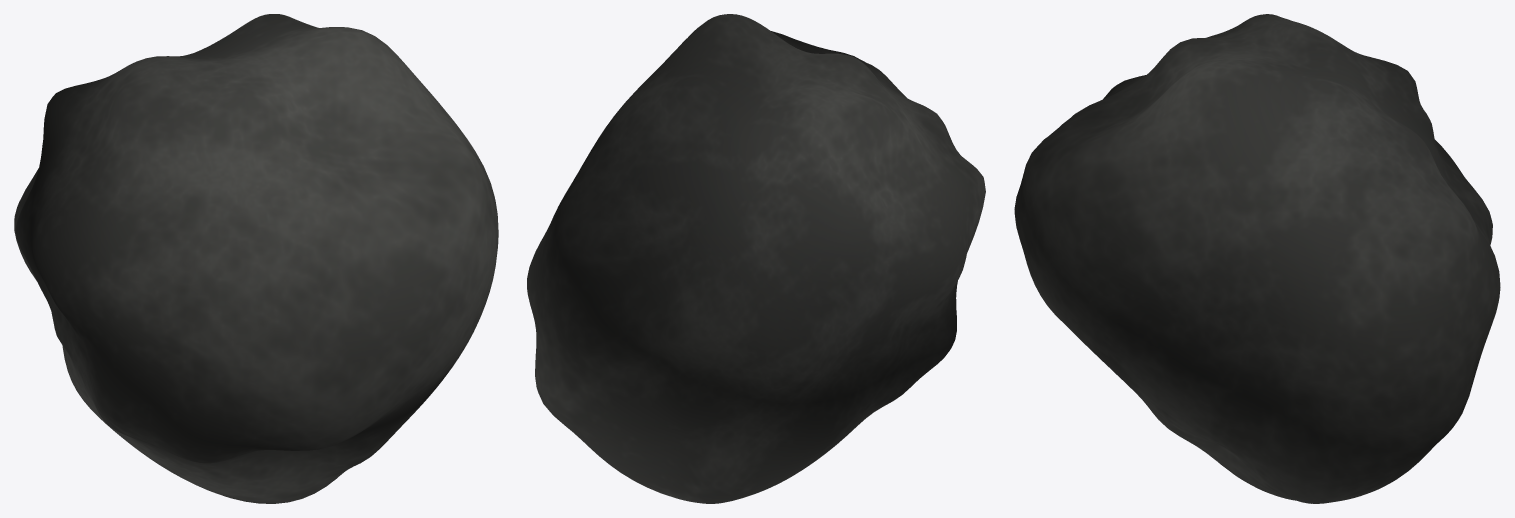
Rendered from asteroid-flint.glb.
The picture shows the model from 3 angles, left to right: view 1: azimuth 30°, elevation 25°; view 2: azimuth 150°, elevation 25°; view 3: azimuth 270°, elevation 25°; orthographic projection. The views are drawn at different scales.
Parts seen in each view (by area): view 1: asteroid_1001; view 2: asteroid_1001; view 3: asteroid_1001.
Part boxes in pixels (left/top/right/bottom): asteroid_1001: left=14, top=14, right=498, bottom=503; asteroid_1001: left=527, top=14, right=985, bottom=503; asteroid_1001: left=1014, top=14, right=1500, bottom=503.
Bounding box in the file's own units: 53.72 × 60.72 × 61.18.
1 material, 1 textured.
